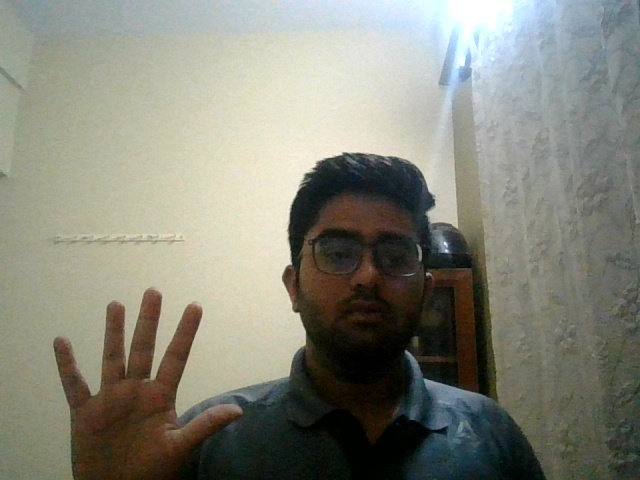Hello: (37, 283, 248, 474)
